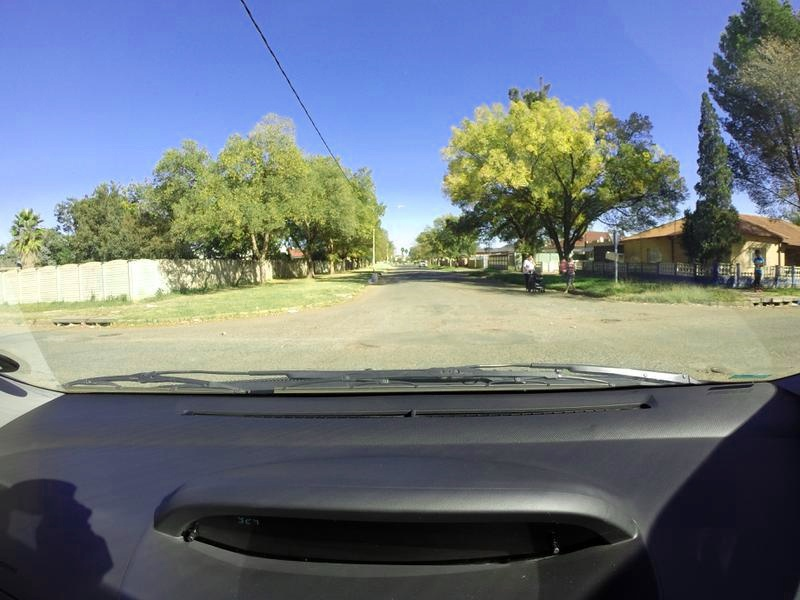pothole: (361, 335, 388, 357), (700, 356, 725, 375), (485, 324, 512, 340), (594, 315, 625, 325)
